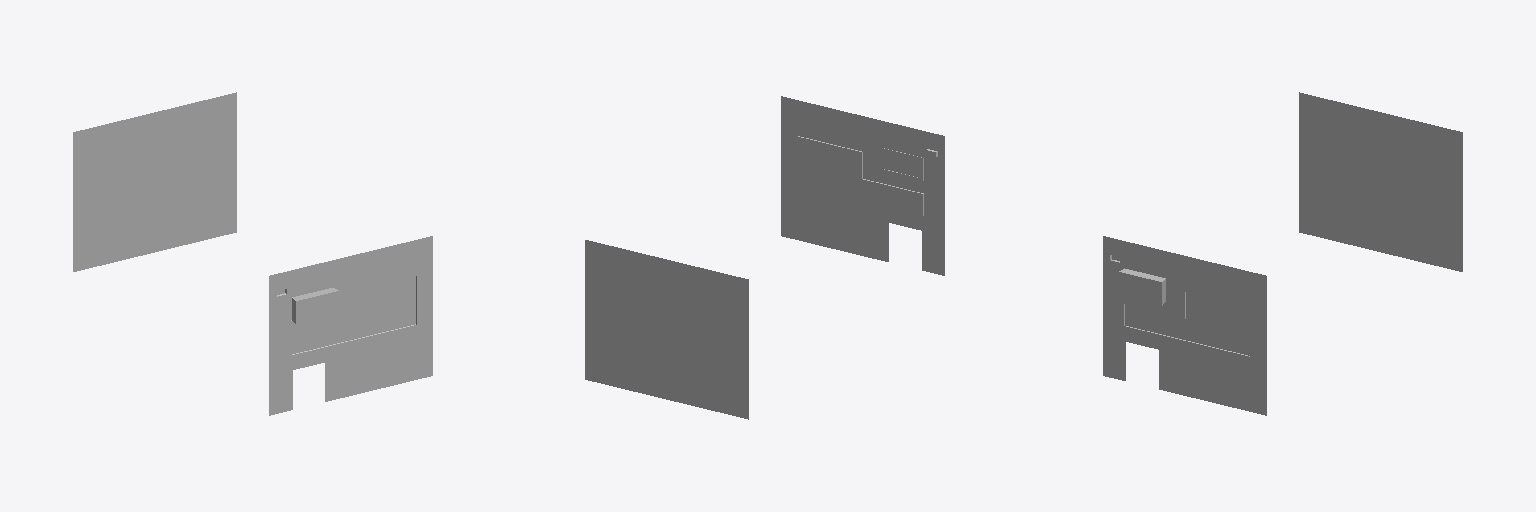
The model's file is WallB+D.obj.
3 renders of one model, left to right at view 1: azimuth 30°, elevation 25°; view 2: azimuth 150°, elevation 25°; view 3: azimuth 330°, elevation 25°, orthographic.
Visible parts, largest first — view 1: WallD.001, WallB.001; view 2: WallD.001, WallB.001; view 3: WallD.001, WallB.001.
Boxes of the visible parts, box(x1,y1,x2,y2) form: WallD.001: box(73, 92, 236, 271); WallB.001: box(269, 236, 432, 415); WallD.001: box(585, 240, 748, 419); WallB.001: box(781, 96, 944, 275); WallD.001: box(1299, 92, 1462, 271); WallB.001: box(1103, 236, 1266, 415).
Bounding box in the file's own units: 9.36 × 7.65 × 19.92.